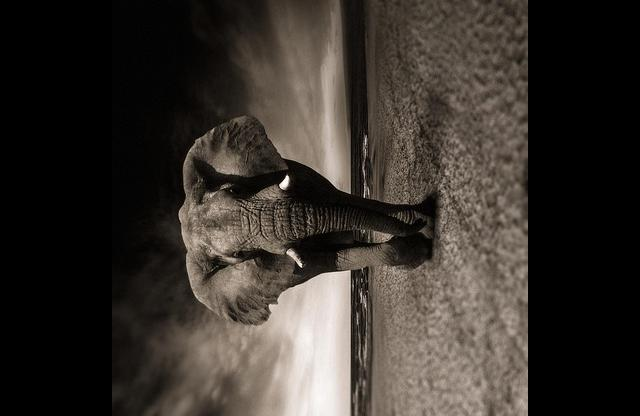Non_Gorille: (136, 76, 474, 374)
